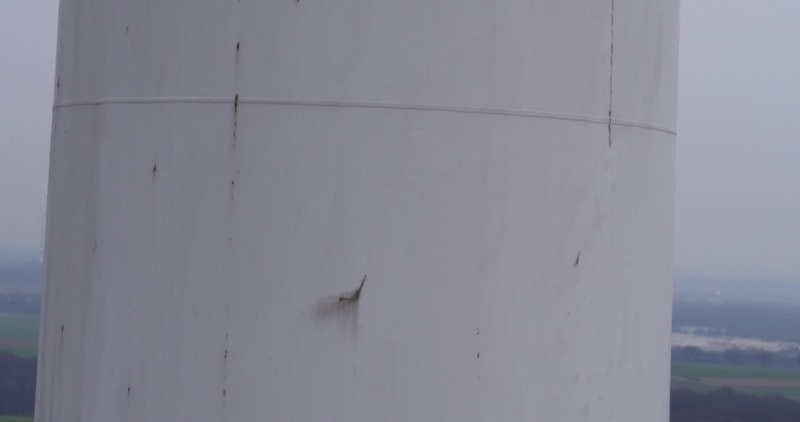weldseam: (46, 95, 682, 143)
